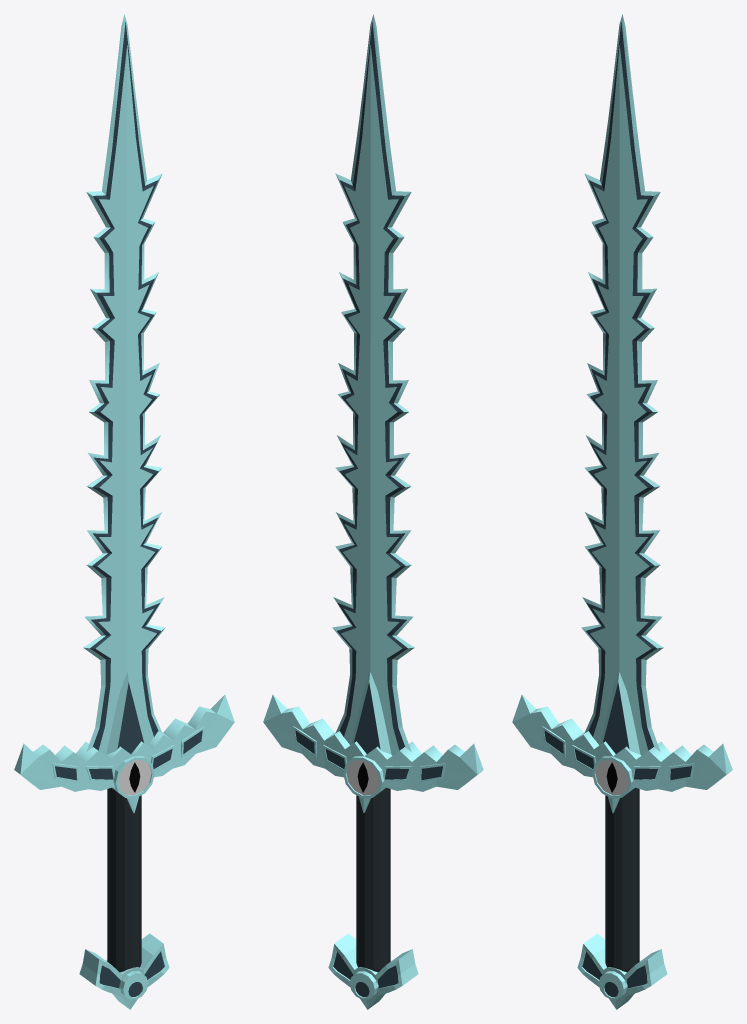
Rendered from longsword_ice.fbx.
3 views of the same model, side by side, from view 1: azimuth 30°, elevation 25°; view 2: azimuth 150°, elevation 25°; view 3: azimuth 330°, elevation 25° (orthographic).
Visible parts, largest first — view 1: LongSword_Ice; view 2: LongSword_Ice; view 3: LongSword_Ice.
Boxes of the visible parts, x1,y1,x2,y2 form: LongSword_Ice: (14,14,234,1009); LongSword_Ice: (263,14,483,1009); LongSword_Ice: (512,14,732,1009).
Bounding box in the file's own units: 0.0797 × 1.91 × 0.4329.
